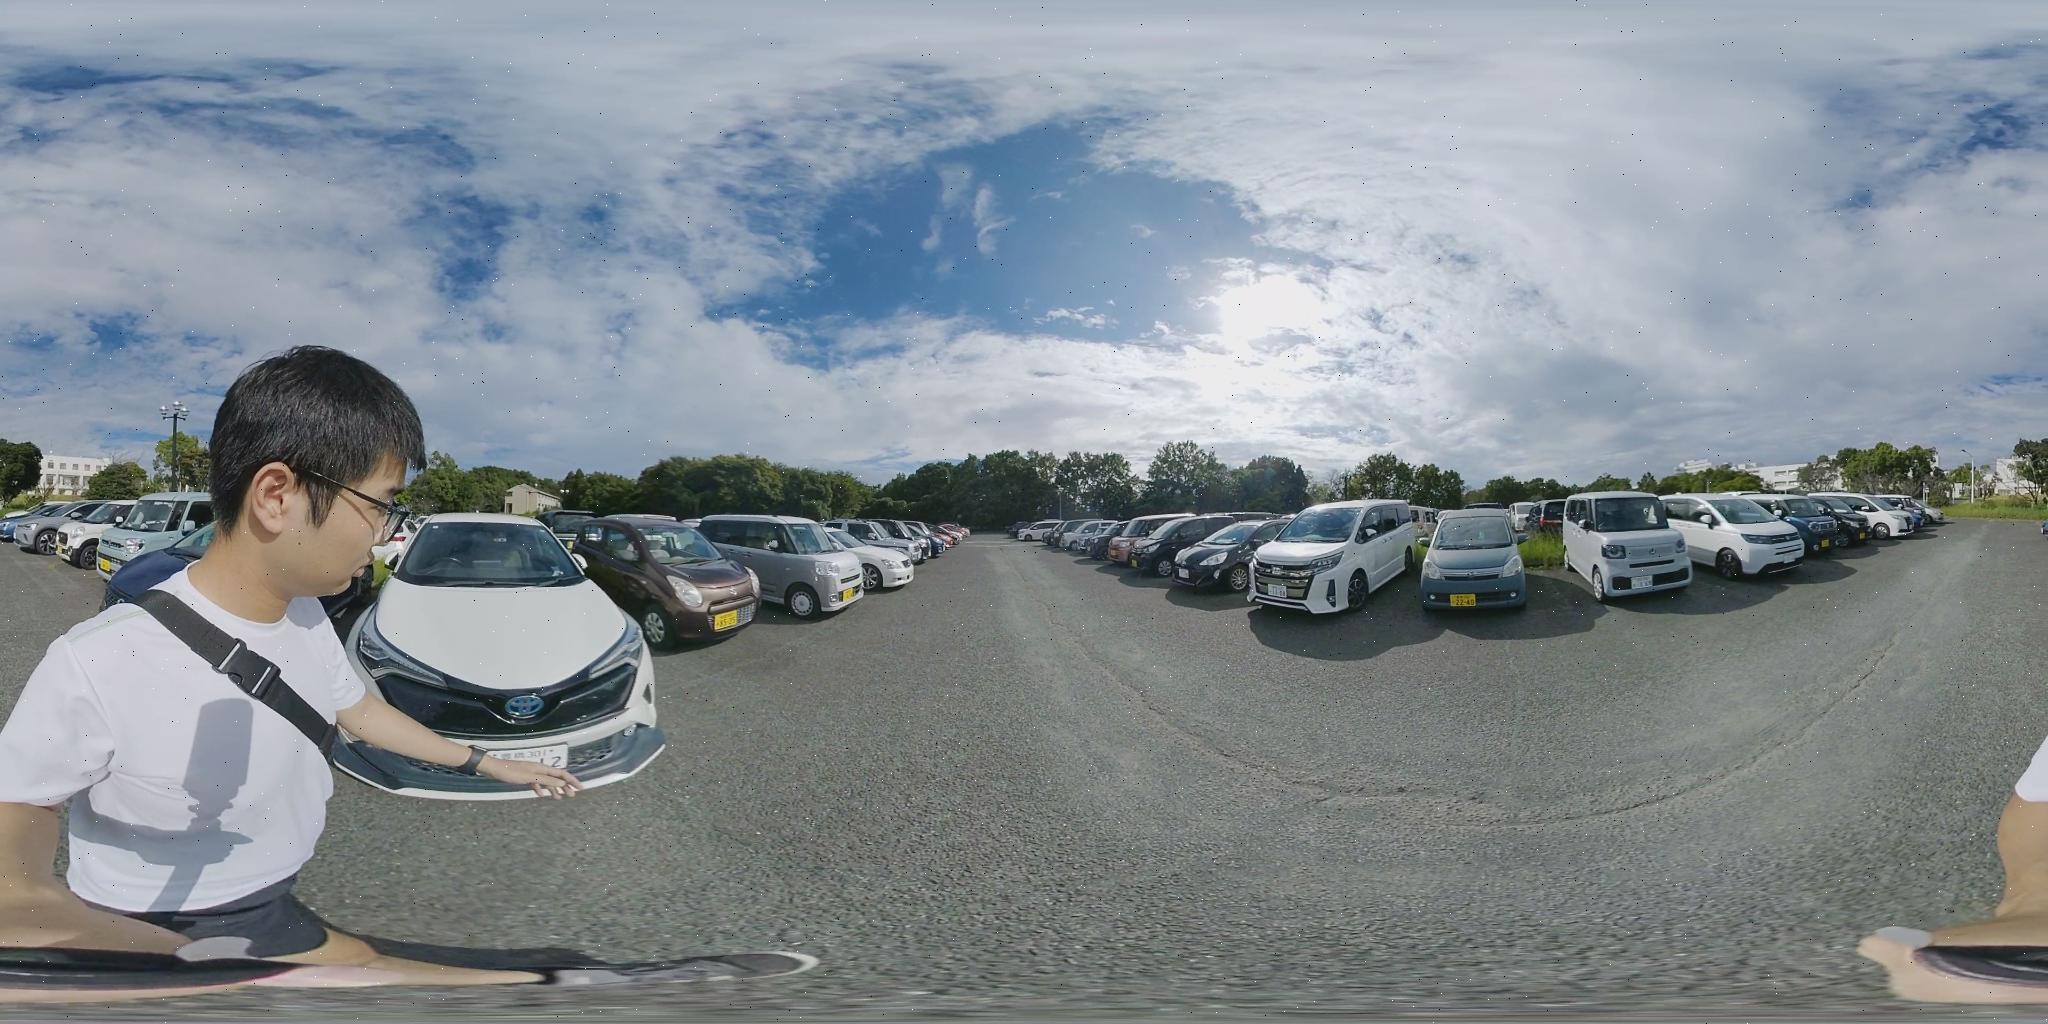car: (559, 520, 768, 653), (1242, 502, 1439, 616), (690, 521, 879, 620), (1566, 491, 1689, 598), (1671, 495, 1830, 575), (1417, 509, 1532, 613), (50, 495, 216, 566), (1160, 517, 1276, 589), (815, 521, 930, 589), (7, 500, 132, 550), (1768, 494, 1877, 543), (1109, 515, 1196, 568), (1840, 494, 1920, 534), (1062, 521, 1122, 558), (538, 515, 601, 546), (1004, 521, 1062, 545)
